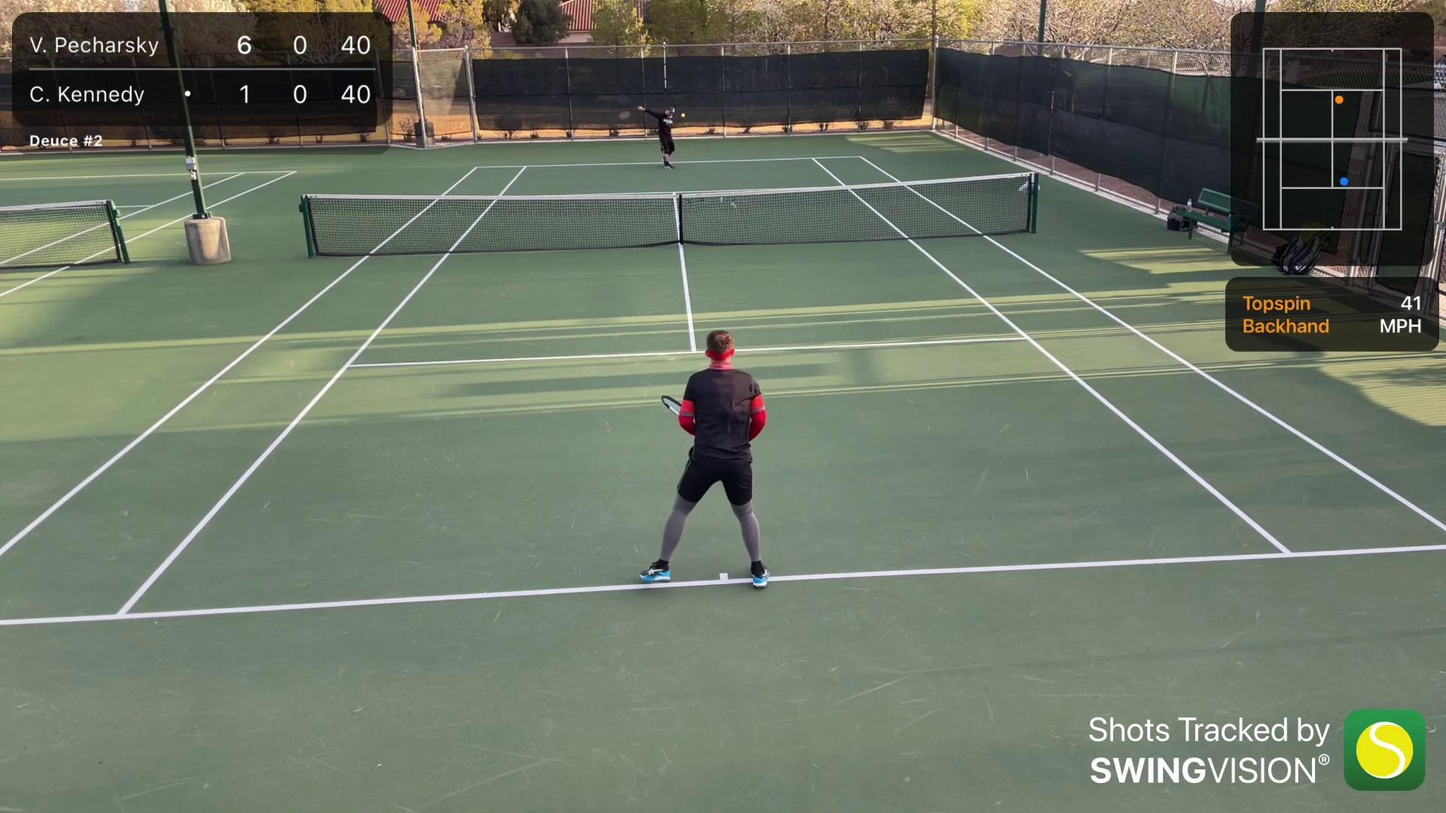ball: (680, 113, 686, 118)
